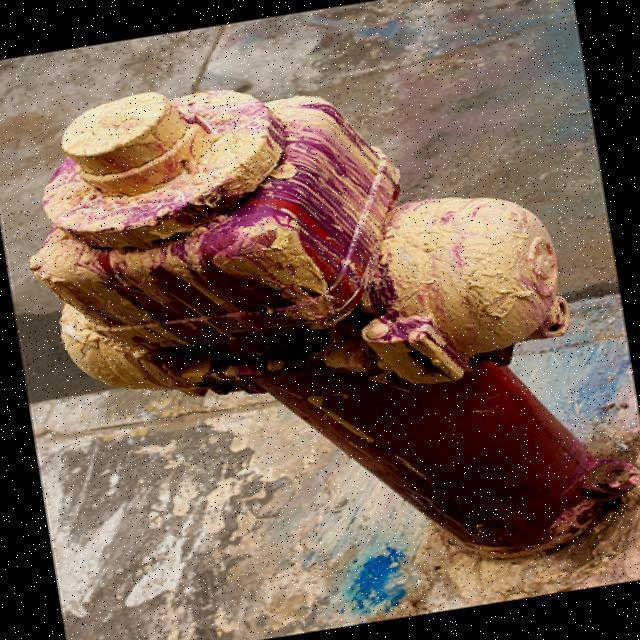fire_hydrant: (4, 30, 639, 628)
